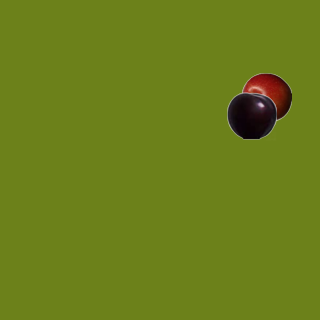Apple Braeburn: (241, 72, 291, 122)
Cherry Wax Black: (226, 90, 276, 140)
